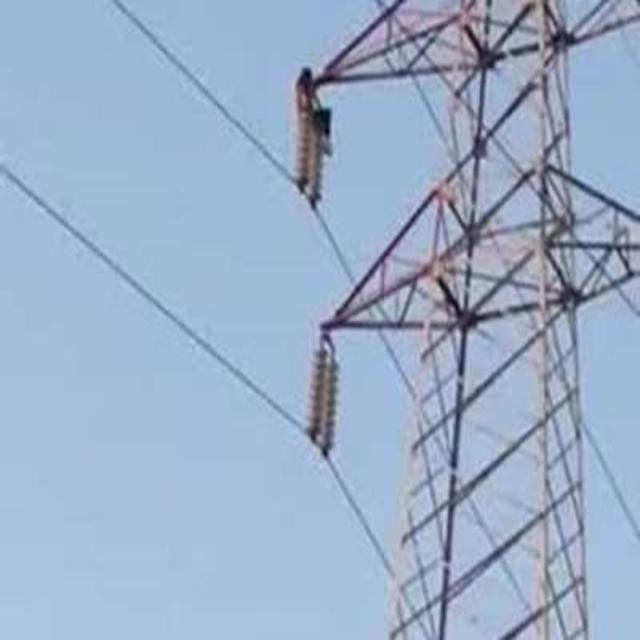non-critical vegetation: (265, 4, 629, 634)
